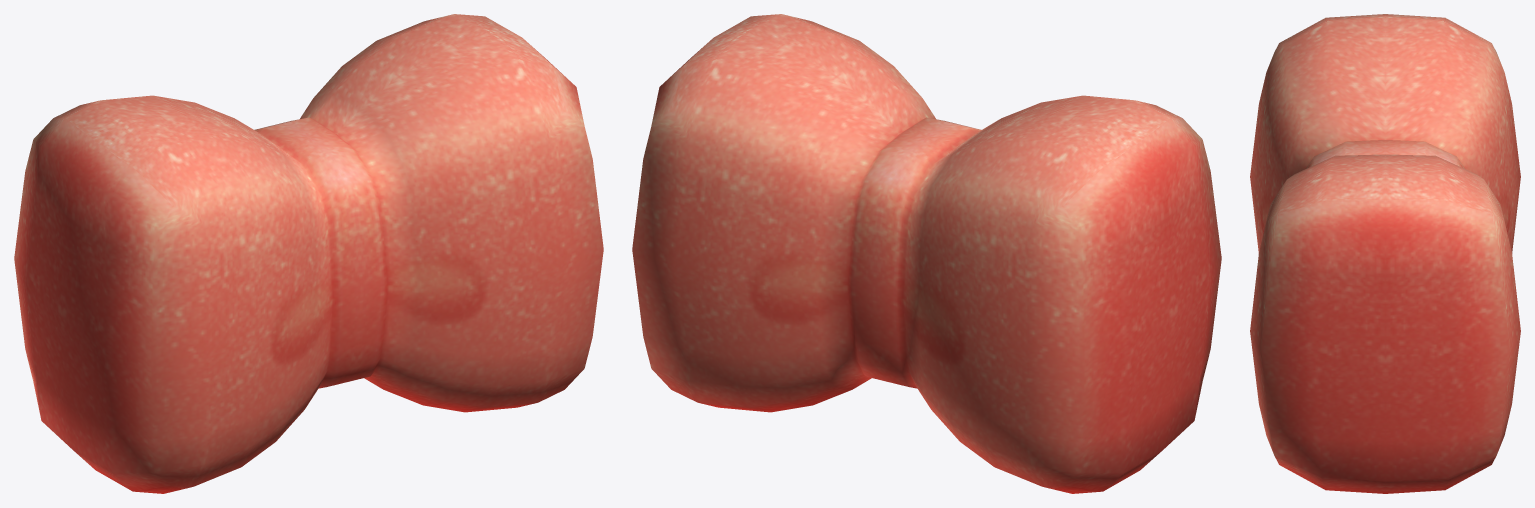
The model's file is 新雪糕工厂-制作雪糕-雪糕和模具01-红.FBX.
3 renders of one model, left to right at view 1: azimuth 30°, elevation 25°; view 2: azimuth 150°, elevation 25°; view 3: azimuth 270°, elevation 25°, orthographic. The views are drawn at different scales.
Visible parts, largest first — view 1: 新雪糕工厂-制作雪糕-雪糕和模具01-红; view 2: 新雪糕工厂-制作雪糕-雪糕和模具01-红; view 3: 新雪糕工厂-制作雪糕-雪糕和模具01-红.
Part boxes in pixels (<box>): 新雪糕工厂-制作雪糕-雪糕和模具01-红: <box>14,14,603,493</box>; 新雪糕工厂-制作雪糕-雪糕和模具01-红: <box>632,14,1221,493</box>; 新雪糕工厂-制作雪糕-雪糕和模具01-红: <box>1250,14,1520,493</box>.
Bounding box in the file's own units: 27.21 × 18.53 × 14.43.
1 material, 1 textured.
